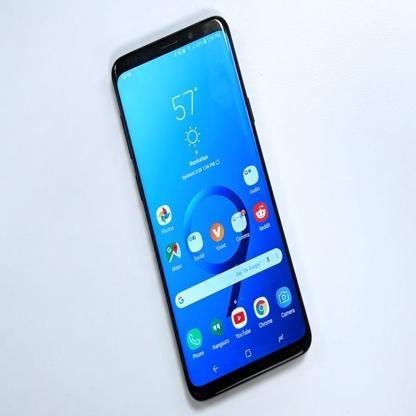not trash: (108, 14, 315, 404)
